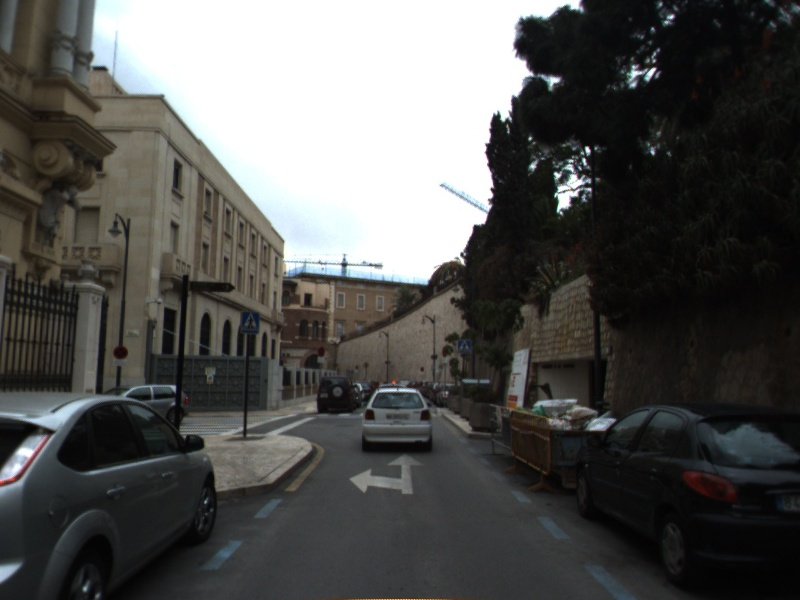STRAIGHT_LEFT: (347, 451, 427, 496)
